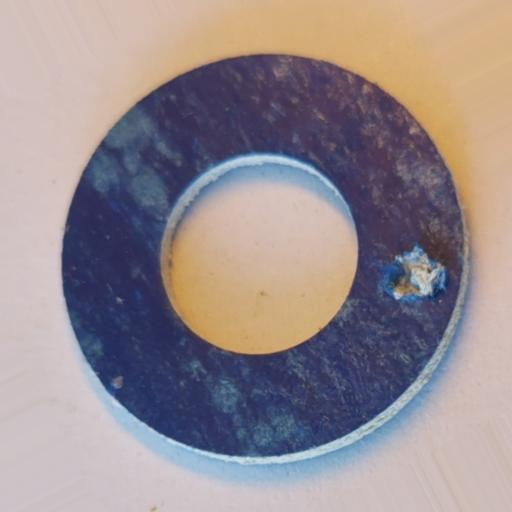defect: (382, 245, 448, 301)
